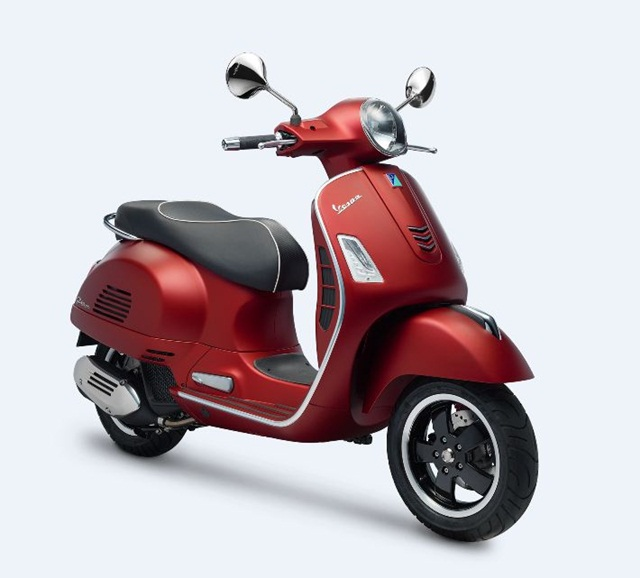motorcycle: (79, 101, 533, 541)
